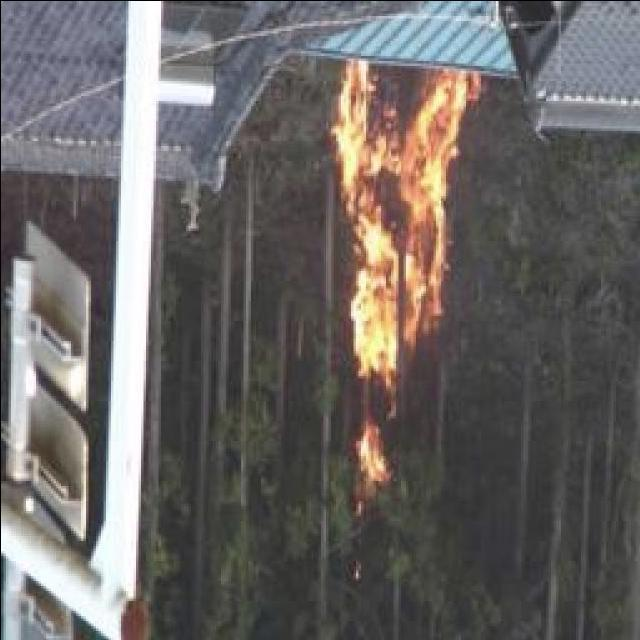Fire: (332, 52, 476, 492)
